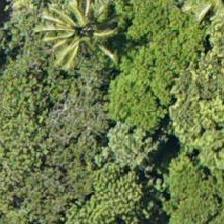coconut_tree: (27, 0, 117, 75)
